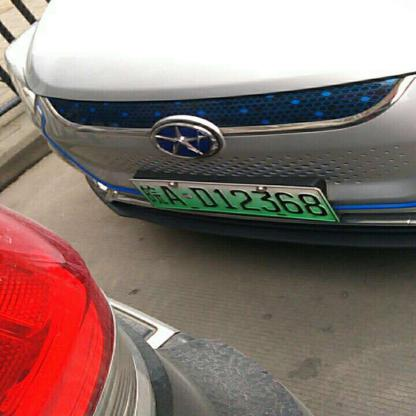lp: (132, 181, 336, 220)
